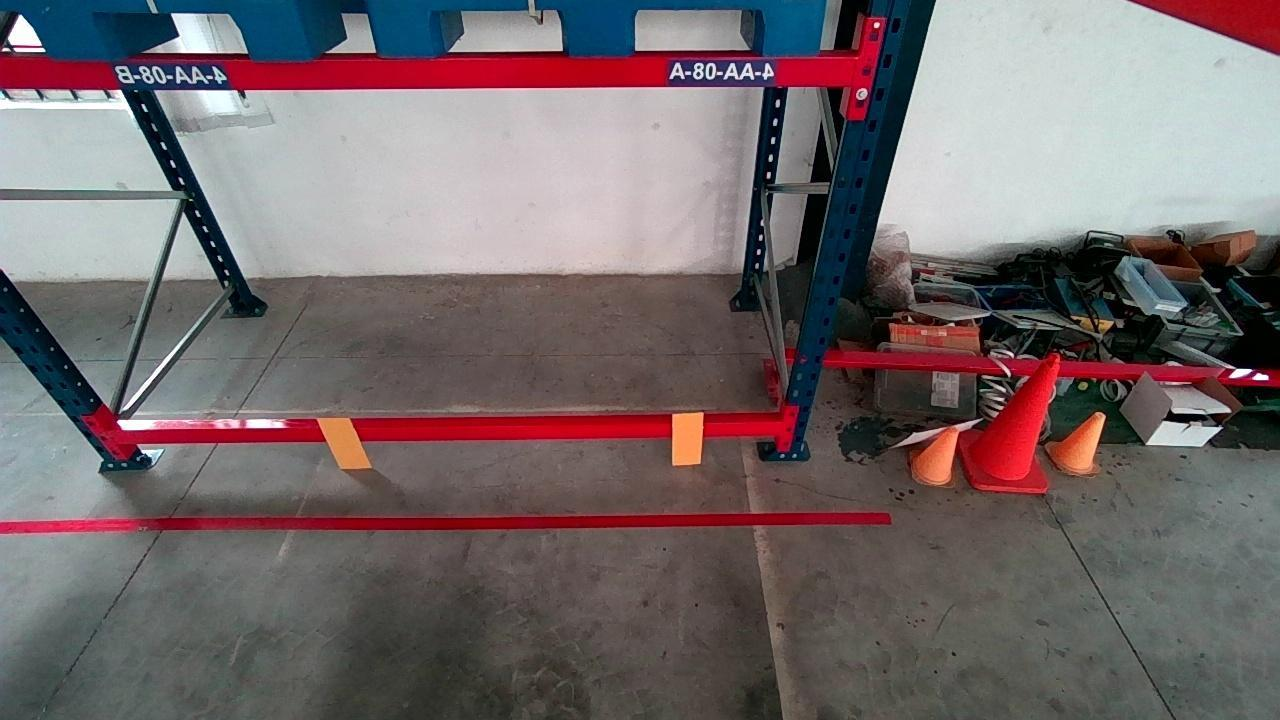h_rack: (110, 413, 782, 447)
orange_strip: (320, 416, 372, 469), (671, 410, 705, 465)
red_line: (4, 505, 886, 537)
small_pallet: (372, 0, 832, 54), (7, 0, 310, 56)
